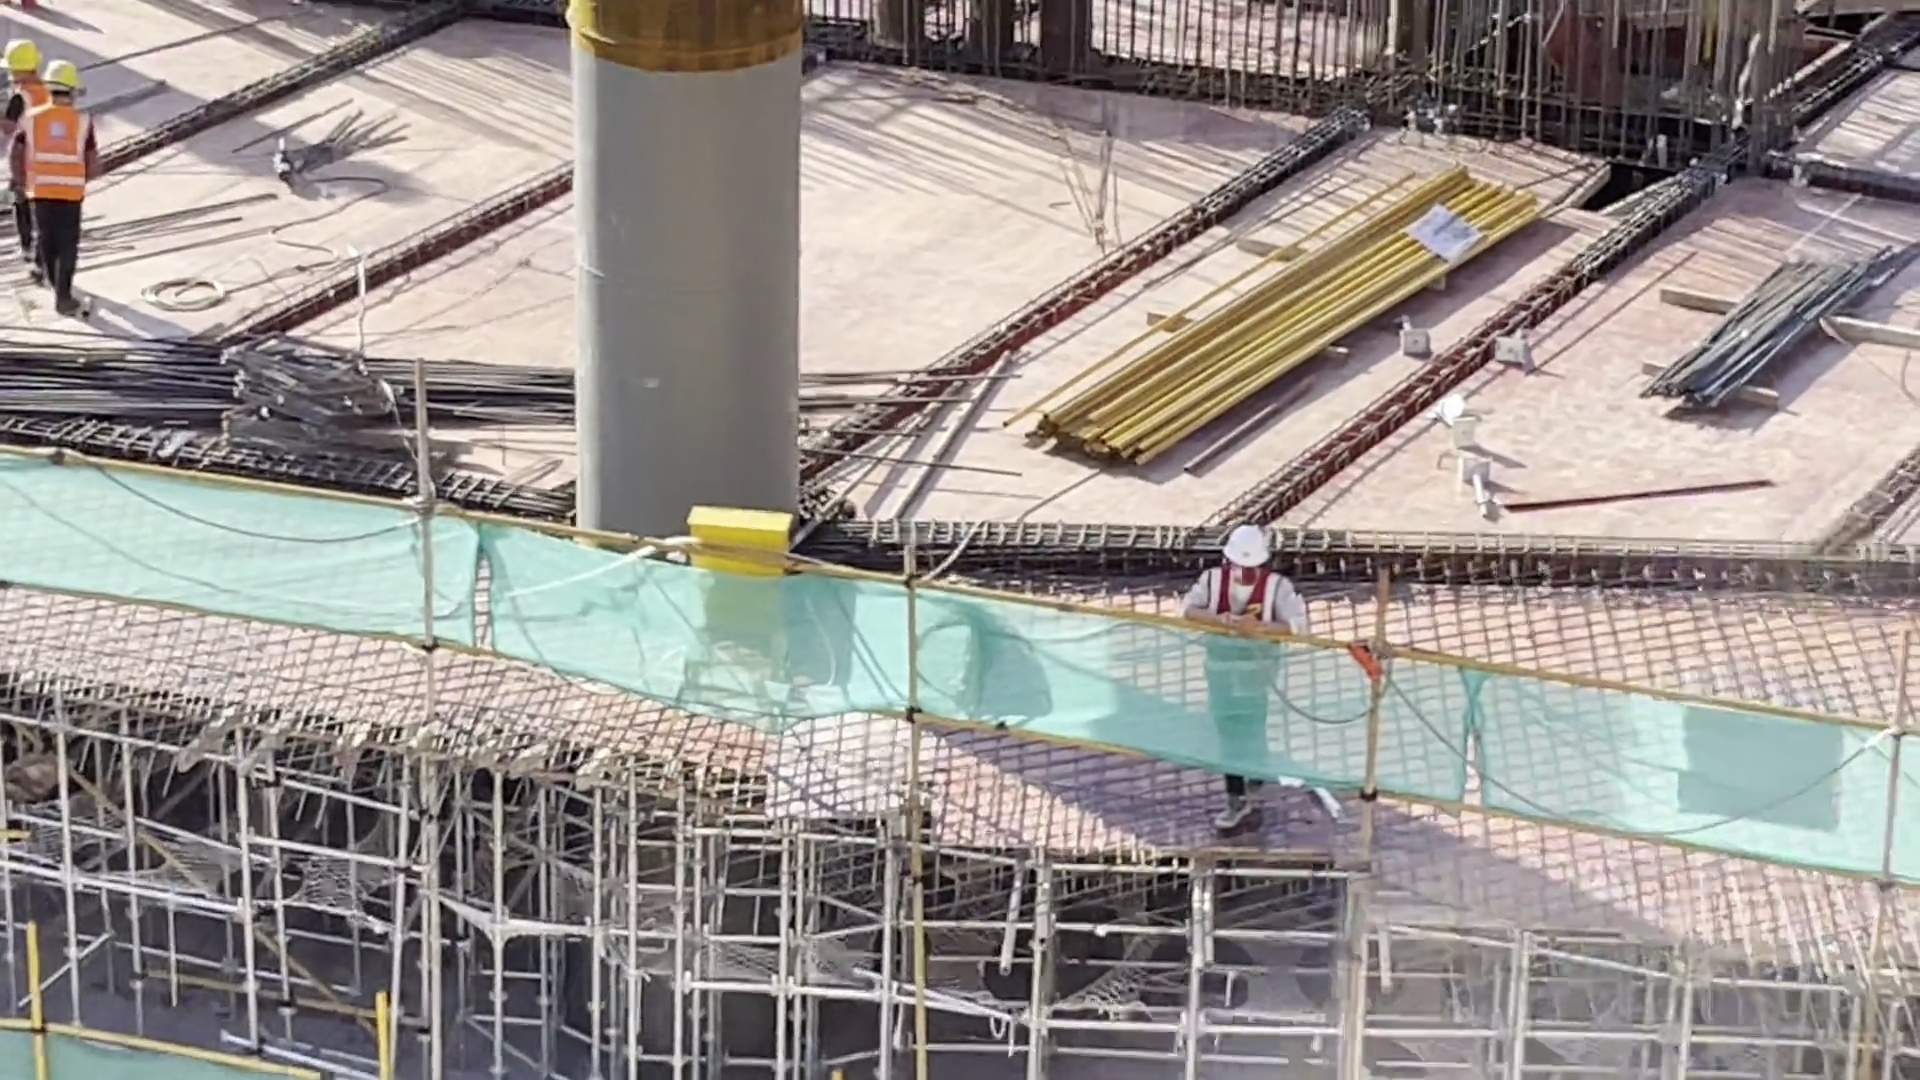ebox: (669, 485, 807, 669)
helmet: (1213, 524, 1274, 570), (1, 34, 42, 89), (35, 57, 83, 101)
person: (1178, 512, 1304, 835), (28, 50, 103, 327), (1, 32, 49, 286)
vest: (5, 102, 90, 211), (1209, 568, 1285, 689)
